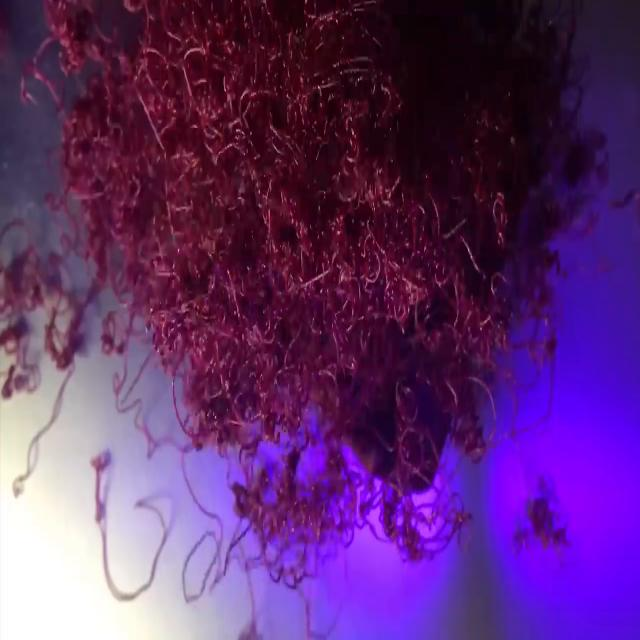spaghetti: (28, 0, 611, 494), (228, 431, 466, 626), (0, 228, 85, 398), (88, 450, 166, 603), (514, 482, 566, 560)
